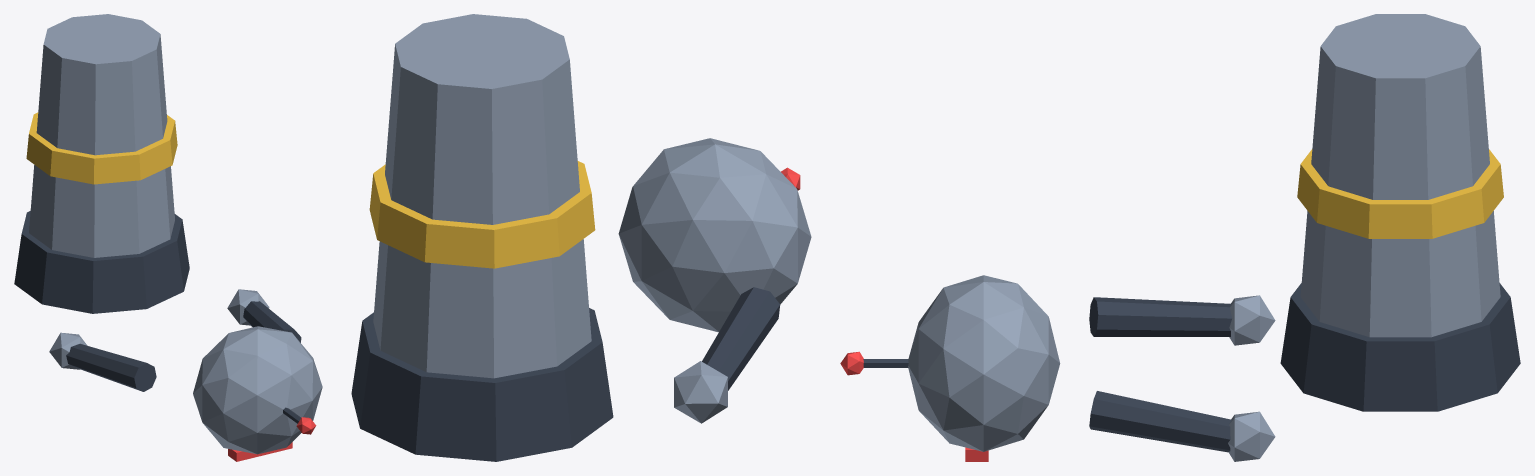
Rendered from robot_basic.fbx.
3 renders of one model, left to right at view 1: azimuth 30°, elevation 25°; view 2: azimuth 150°, elevation 25°; view 3: azimuth 270°, elevation 25°, orthographic. The views are drawn at different scales.
Visible parts, largest first — view 1: Body, Head, ArmR, ArmL; view 2: Body, Head, ArmR; view 3: Body, Head, ArmR, ArmL.
Boxes of the visible parts, x1,y1,x2,y2 form: Body: (14, 14, 189, 313); Head: (193, 326, 322, 461); ArmR: (49, 332, 156, 391); ArmL: (227, 289, 301, 342); Body: (351, 14, 613, 461); Head: (618, 138, 811, 332); ArmR: (674, 287, 780, 423); Body: (1280, 14, 1520, 411); Head: (840, 275, 1060, 461); ArmR: (1089, 295, 1275, 345); ArmL: (1089, 391, 1275, 461).
Size of the model in its own units: 0.9771 by 1.32 by 2.04.
